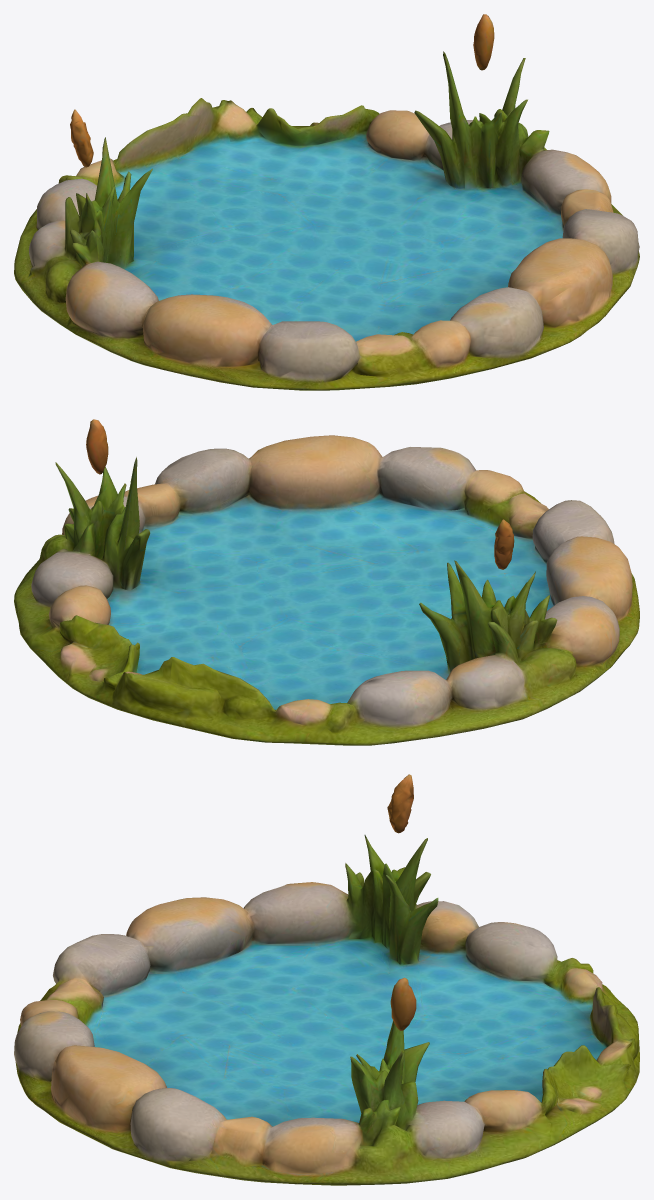
File: cluster-pond.glb
The picture shows the model from 3 angles, top to bottom: view 1: azimuth 30°, elevation 25°; view 2: azimuth 150°, elevation 25°; view 3: azimuth 270°, elevation 25°; orthographic projection.
Visible parts, largest first — view 1: Mesh_0; view 2: Mesh_0; view 3: Mesh_0.
Part boxes in pixels (x1,y1,x2,y2): Mesh_0: [14, 14, 639, 390]; Mesh_0: [14, 419, 639, 745]; Mesh_0: [14, 774, 639, 1185].
Bounding box in the file's own units: 2 × 0.6574 × 2.
Materials: 1 (1 with a texture image).
